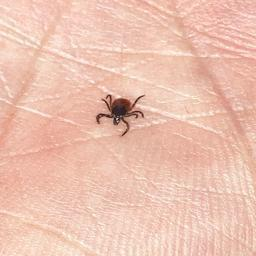Ixodes scapularis: (96, 95, 145, 135)
